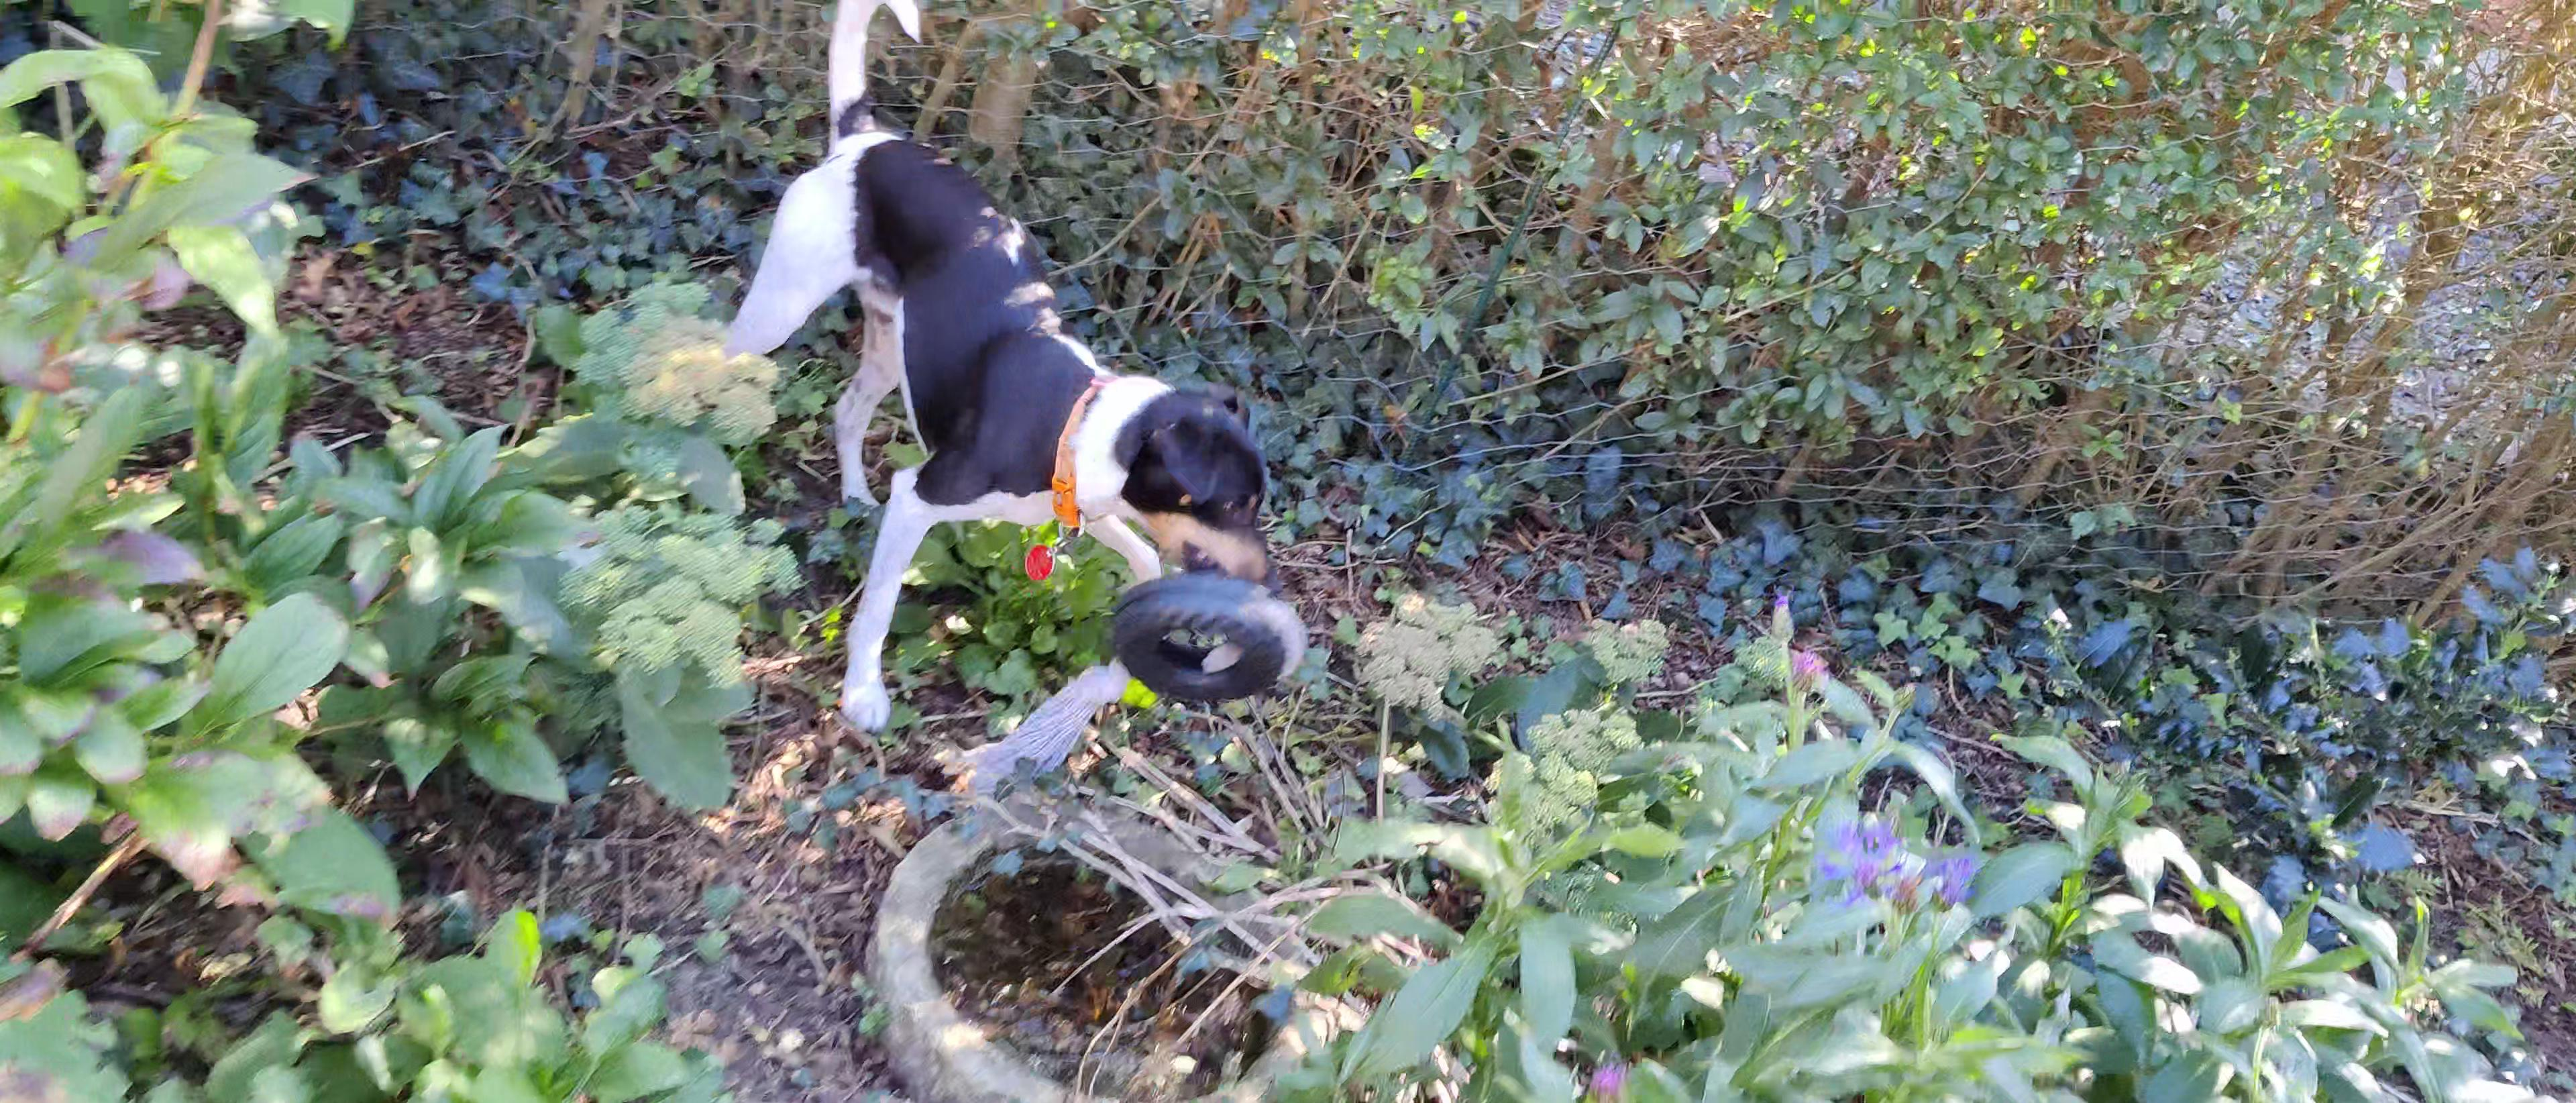Dog: (720, 0, 1281, 735)
